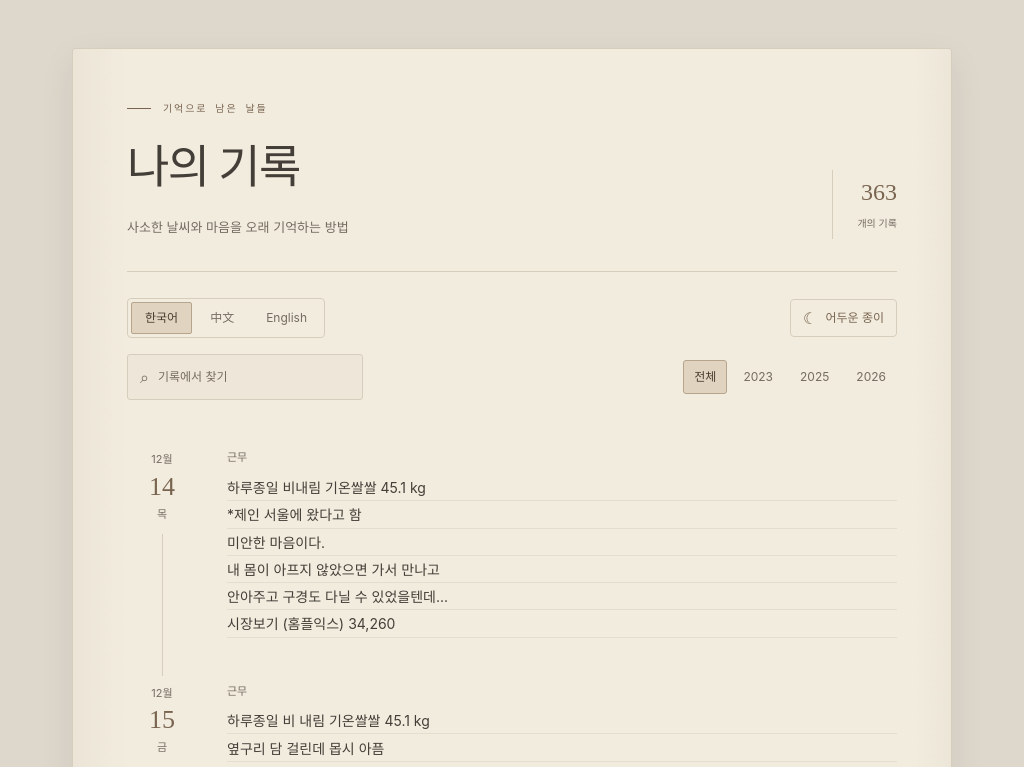
Test: switches languages while preserving search and year filters
Check: the heading "나의 기록" is shown, box [127,142,300,193]
Click the button "2023" at (758, 378), box [732,360,784,394]
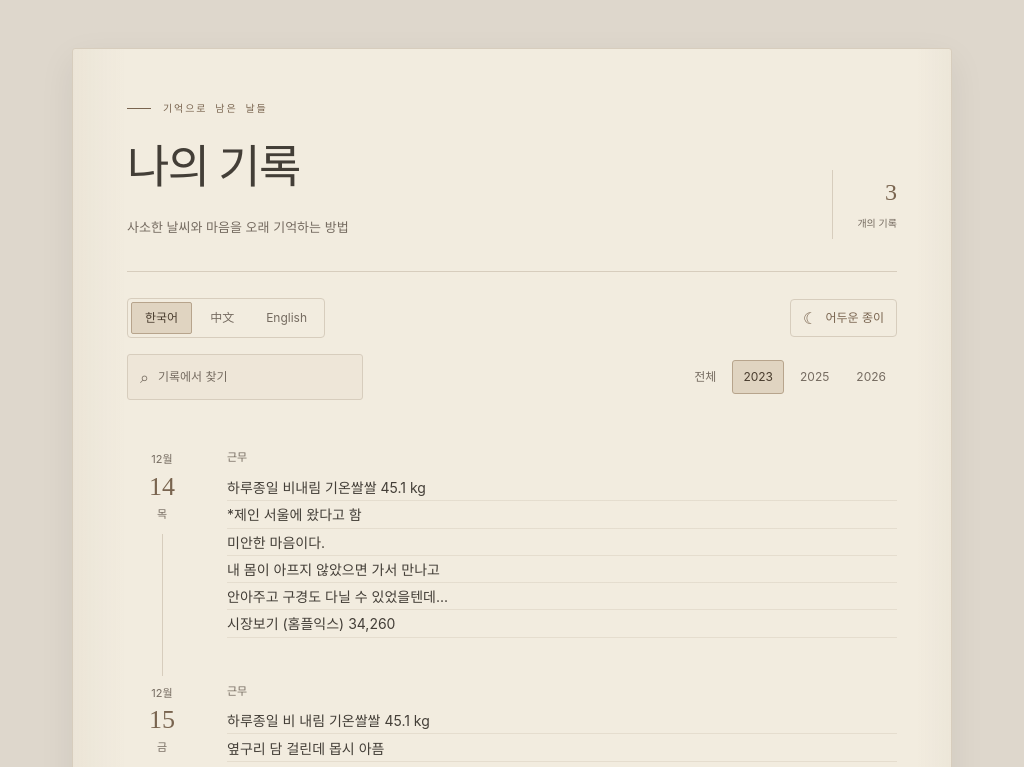
Click the button "中文" at (222, 318), box [196,302,248,334]
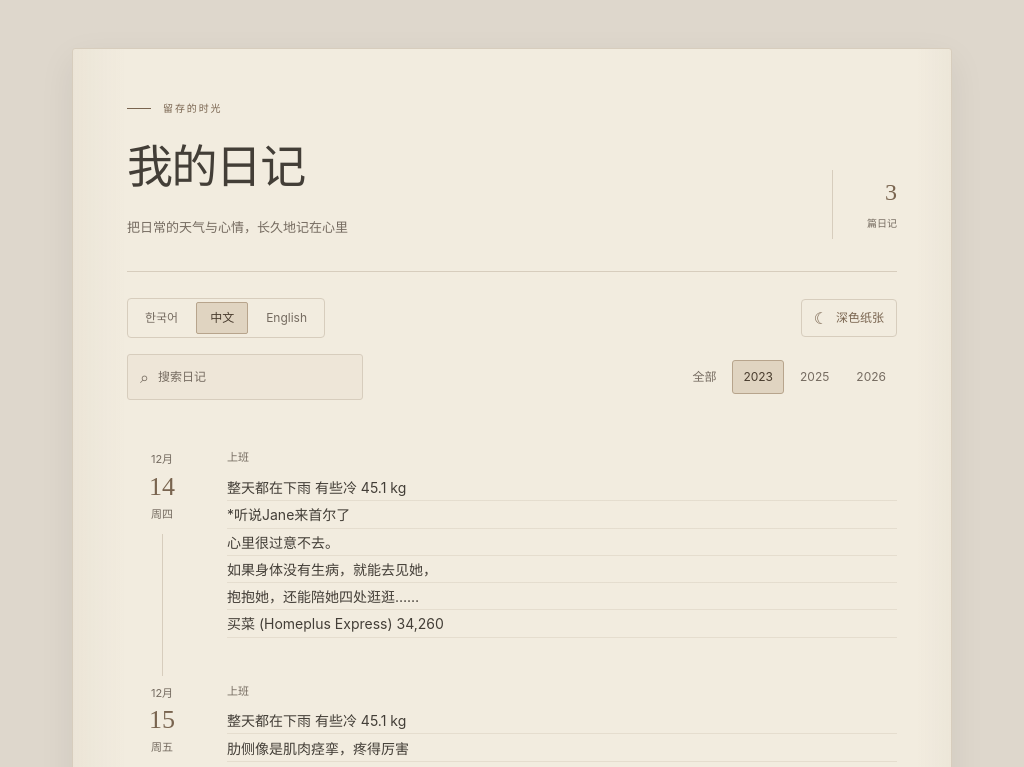
Check: the heading "我的日记" is shown, box [127,142,305,193]
Type "肋侧" into the field named "搜索日记" at (254, 378), box [158,368,350,386]
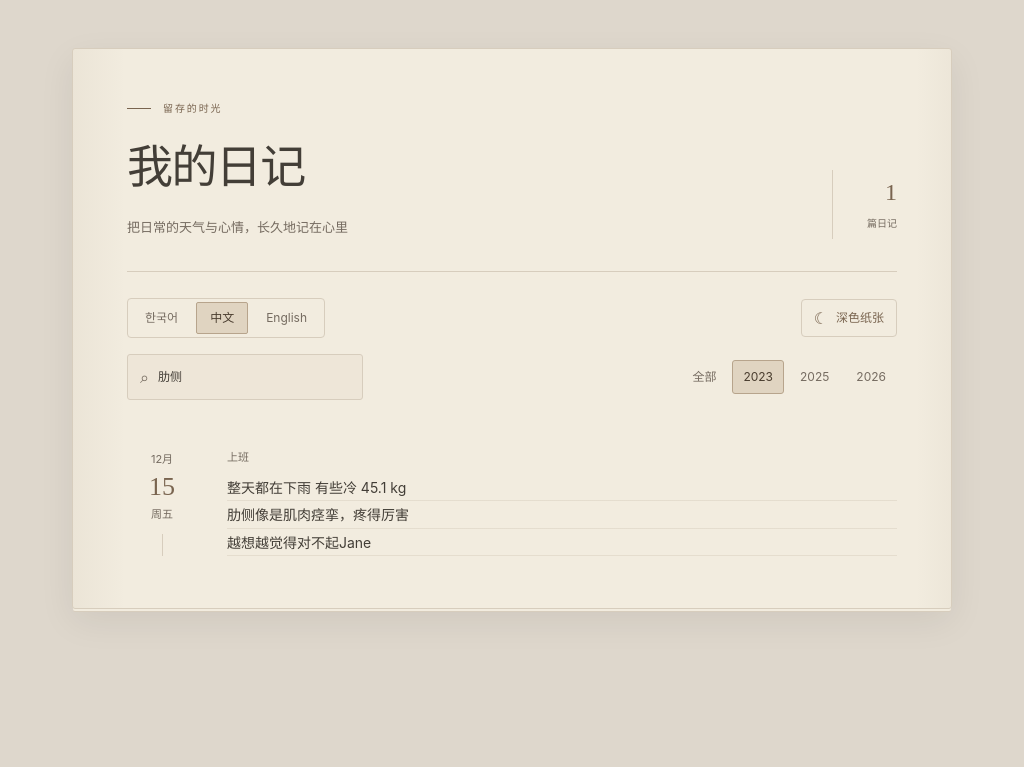
Check: the text "整天都在下雨 有些冷 45.1 kg 肋侧像是肌肉痉挛，疼得厉害 越想越觉得对不起Jane" is shown, box [227,474,897,556]
Click the button "한국어" at (162, 318), box [131,302,192,334]
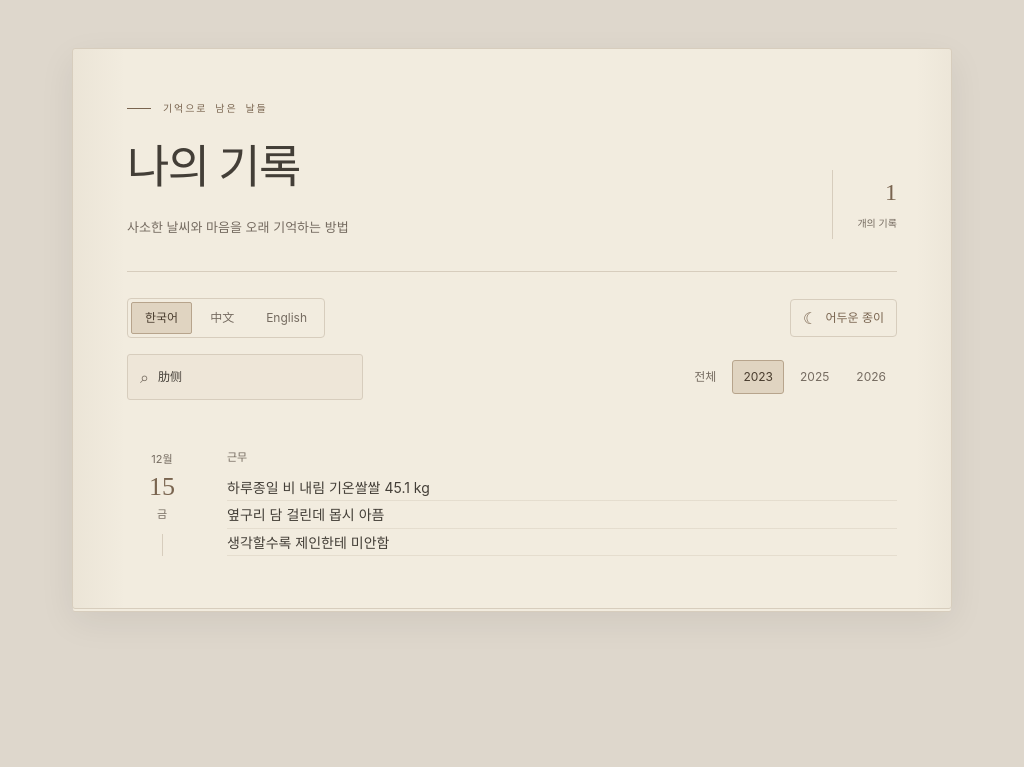
Check: the text "하루종일 비 내림 기온쌀쌀 45.1 kg 옆구리 담 걸린데 몹시 아픔 생각할수록 제인한테 미안함" is shown, box [227,474,897,556]
Replace the text in the field with "no matching entry" at (254, 378), box [158,368,350,386]
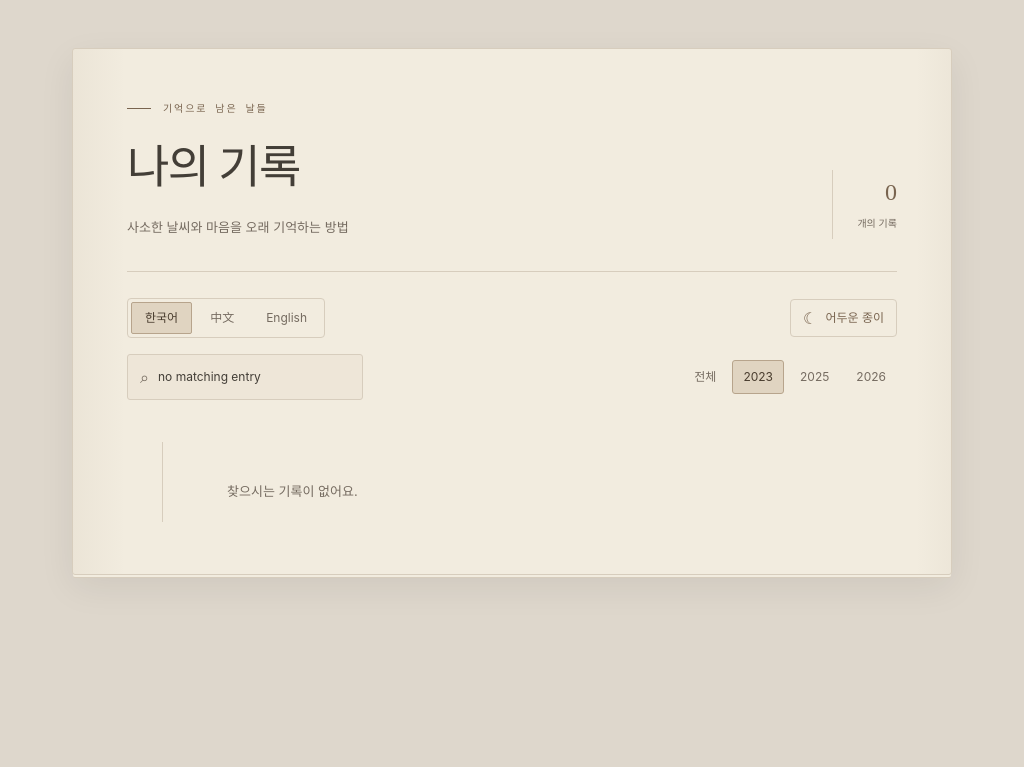
Check: the text "찾으시는 기록이 없어요." is shown, box [227,484,358,500]
